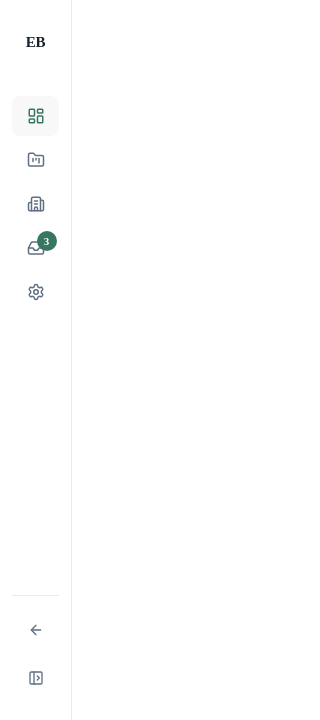
Test: Befunde Blinder Kritiker Sidebar (2026-10-13) › AK-14: Button „Seitenleiste“ mit Zustand, eingeklappt bleibt die Zahl sichtbar
This screenshot has width=320, height=720.
Click the button named "Seitenleiste" at (36, 678), box [12, 656, 59, 700]
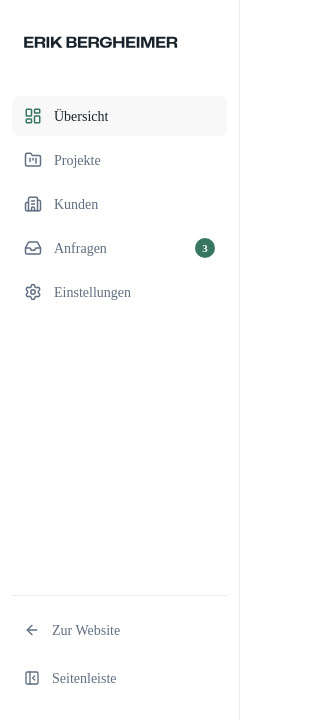
Now the button "Seitenleiste" is expanded, box [12, 656, 227, 700]
